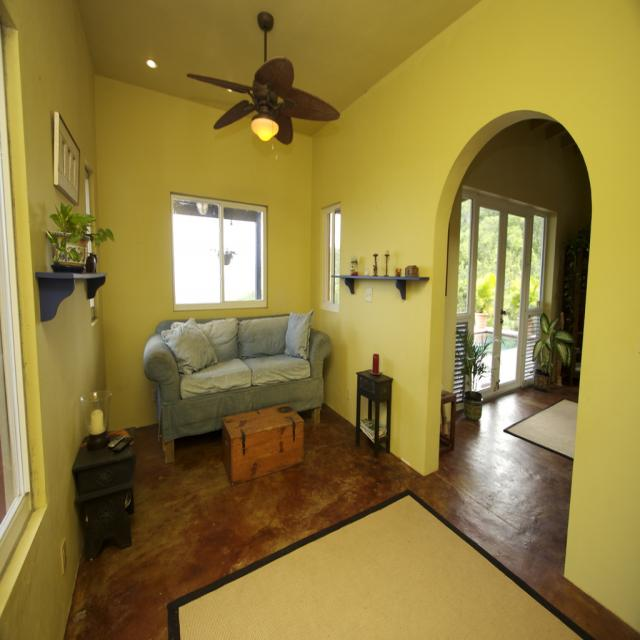Bulb: (186, 13, 340, 161)
